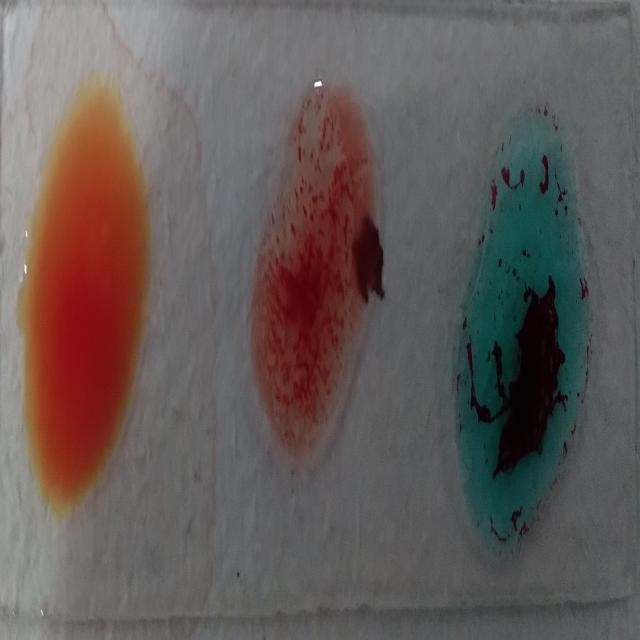A: (451, 119, 592, 543)
D: (246, 87, 376, 450)
